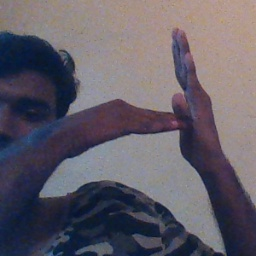Z: (124, 25, 223, 171)
